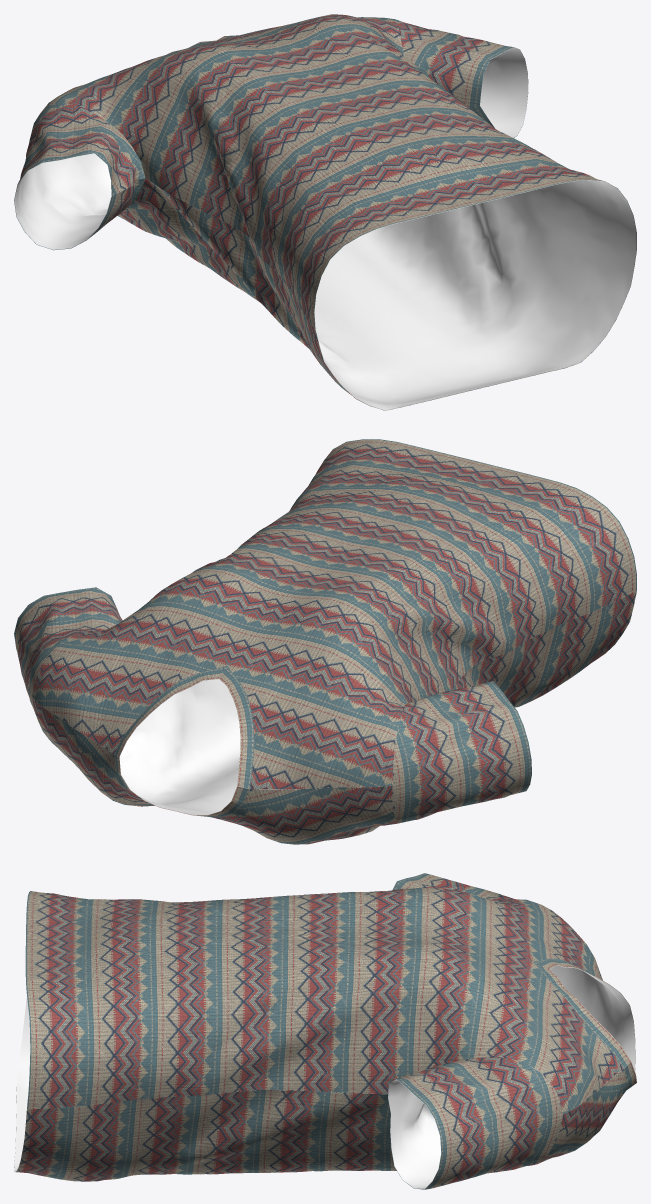
File: male_avg_nZusJQh.glb
3 renders of one model, top to bottom at view 1: azimuth 30°, elevation 25°; view 2: azimuth 150°, elevation 25°; view 3: azimuth 270°, elevation 25°, orthographic.
Visible parts, largest first — view 1: male_avg; view 2: male_avg; view 3: male_avg.
Boxes of the visible parts, <box> form: male_avg: <box>14,14,636,410</box>; male_avg: <box>14,439,636,844</box>; male_avg: <box>14,873,636,1189</box>.
Size of the model in its own units: 0.6677 by 0.2772 by 0.6935.
Materials: 2 (1 with a texture image).
